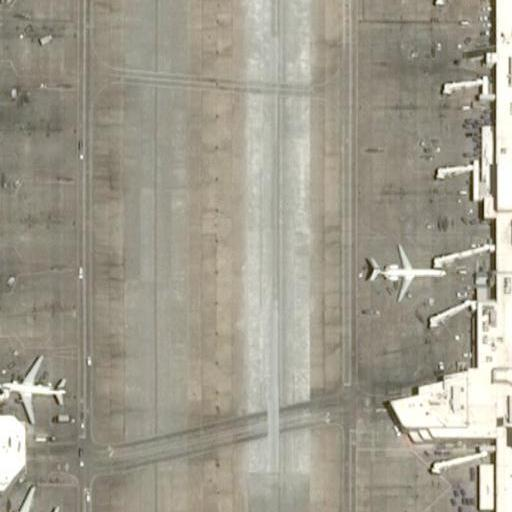Aircraft: (362, 231, 454, 306), (0, 350, 70, 424), (0, 486, 71, 512)
